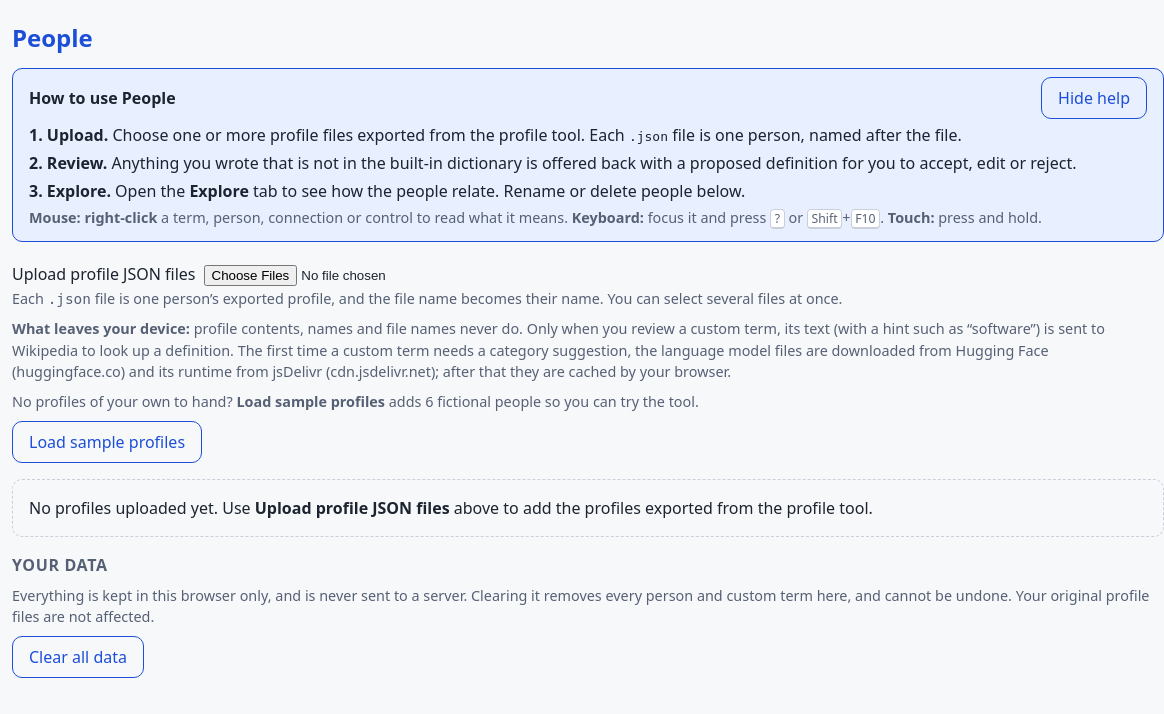
it: Load sample profiles › offers replace or keep-both when the samples are already there
Click the button "Load sample profiles" at [107, 442], box [12,421,202,463]
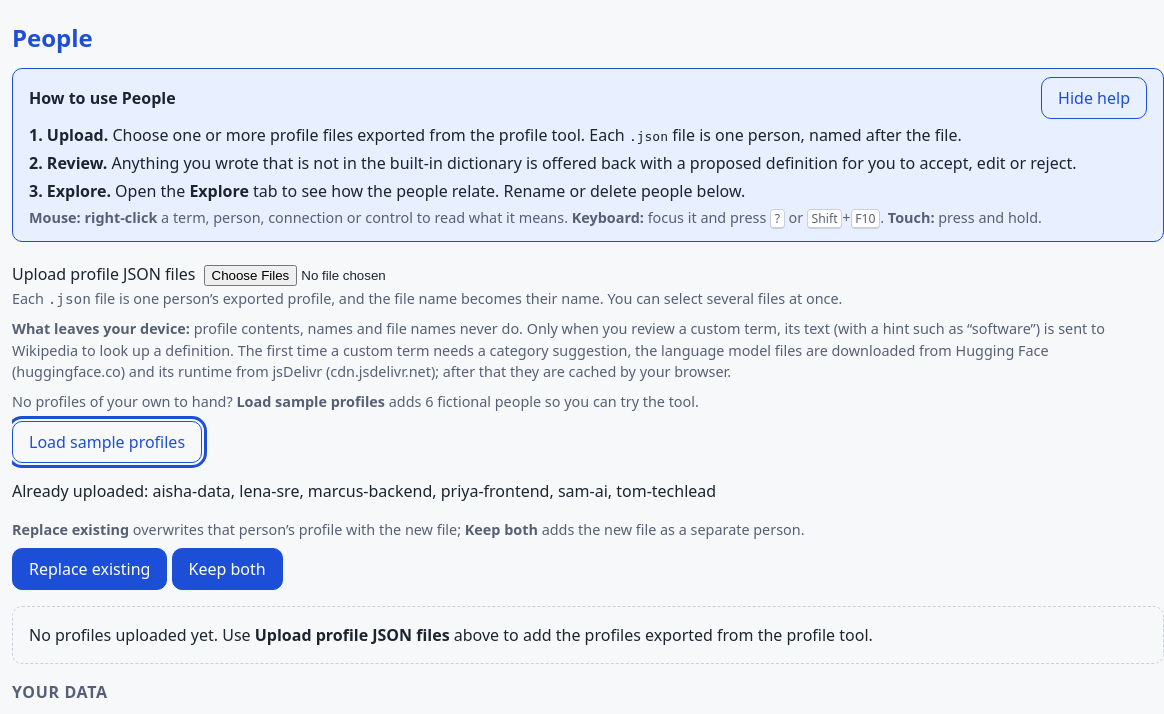
Expected: the button "Replace existing" is shown, [12,548,167,590]
Expected: the button "Keep both" is shown, [172,548,283,590]
